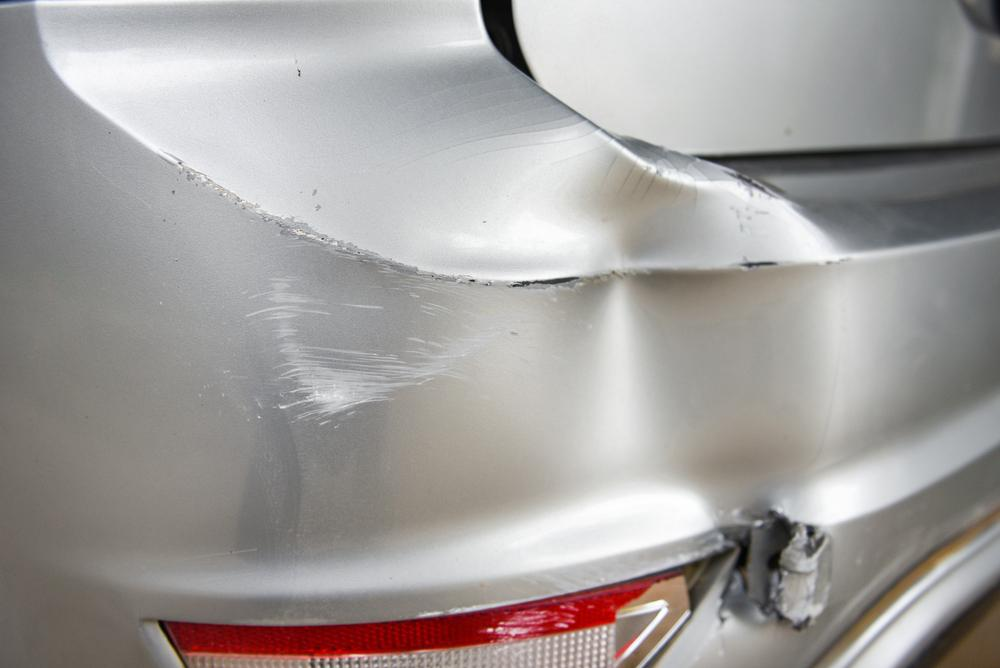crack: (718, 509, 836, 634)
dent: (382, 169, 836, 571)
scratch: (159, 149, 482, 436)
